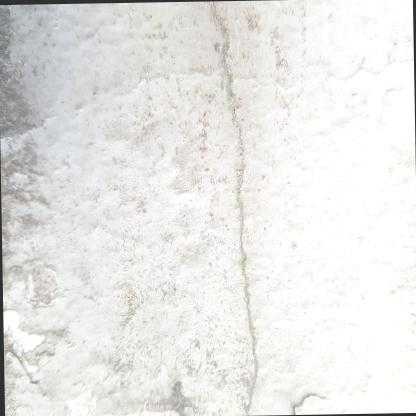crack: (205, 0, 259, 415)
